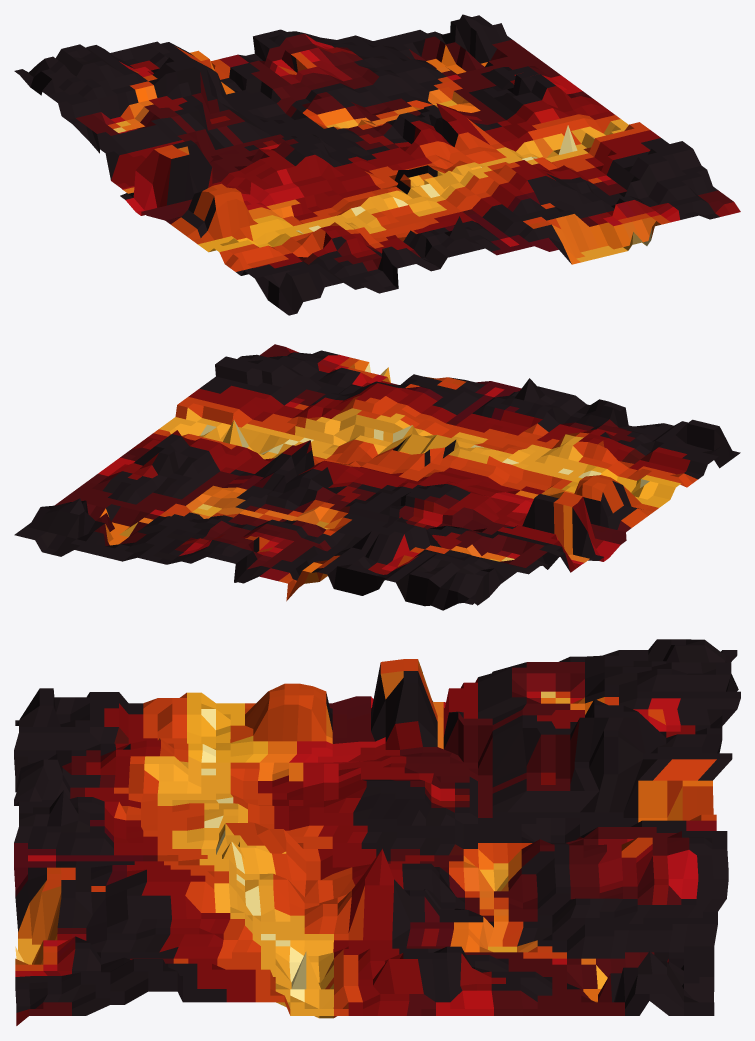
File: Lava2.fbx
The picture shows the model from 3 angles, top to bottom: view 1: azimuth 30°, elevation 25°; view 2: azimuth 150°, elevation 25°; view 3: azimuth 270°, elevation 25°; orthographic projection. The views are drawn at different scales.
Parts seen in each view (by area): view 1: Lava; view 2: Lava; view 3: Lava.
Boxes of the visible parts, bbox=[...] form: Lava: bbox=[14, 14, 740, 315]; Lava: bbox=[14, 344, 740, 610]; Lava: bbox=[14, 639, 740, 1025].
Bounding box in the file's own units: 7286 × 1267 × 7281.
Materials: 1 (1 with a texture image).
